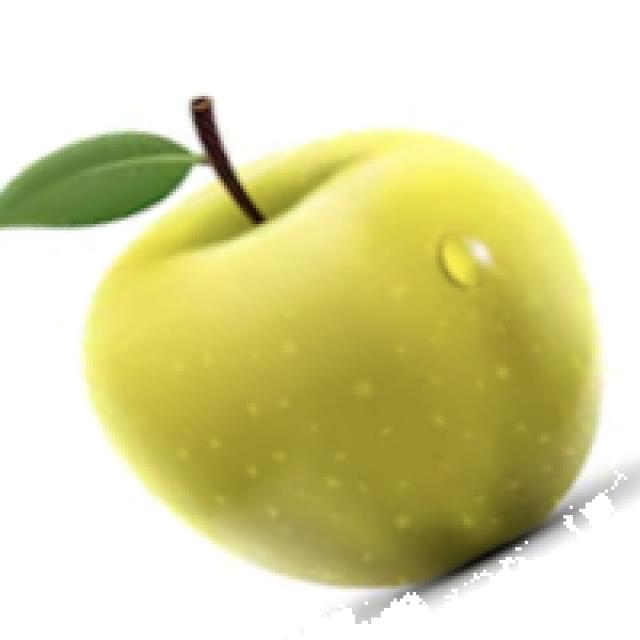apple: (0, 90, 637, 624)
